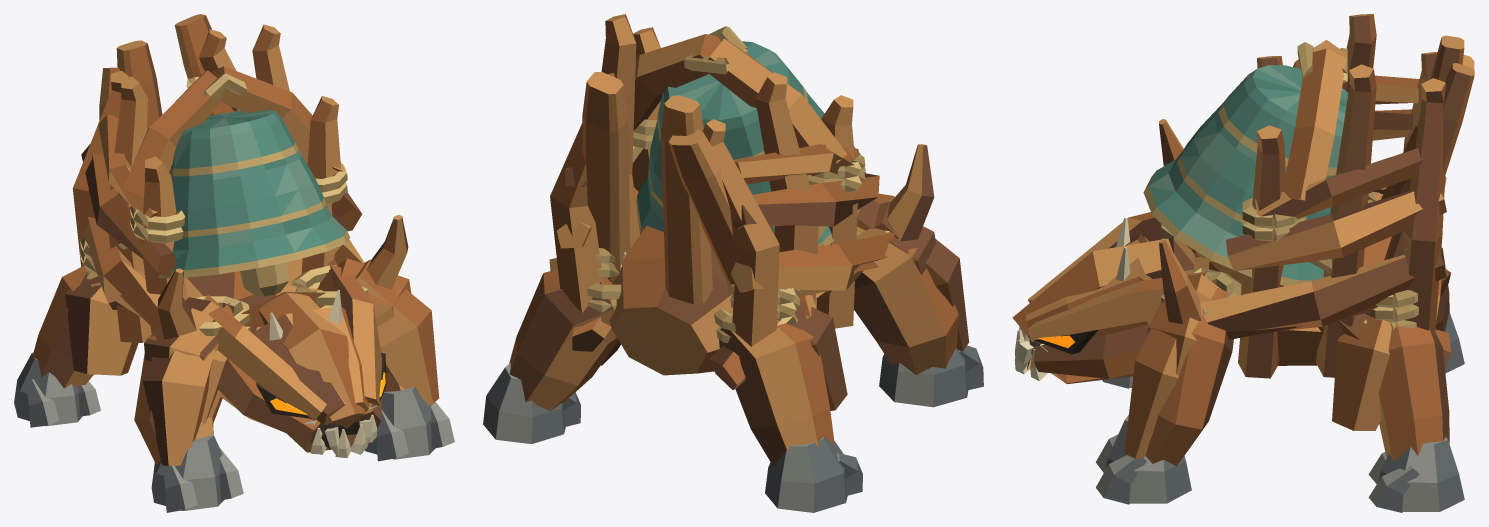
Rendered from bellback-complete-pass3.glb.
The picture shows the model from 3 angles, left to right: view 1: azimuth 30°, elevation 25°; view 2: azimuth 150°, elevation 25°; view 3: azimuth 270°, elevation 25°; orthographic projection. The views are drawn at different scales.
Parts seen in each view (by area): view 1: Hollow cast bell, Left fore outer timber shield, Right fore outer timber shield, Pointed central face keel, Left hind shoulder cap, Shaped orbital brow timber, Solid timber cranium, Arch left, Broken ship rib -1 1, Middle broken side strake -1, Lower broken side strake -1, Left hind timber leg (+33 smaller); view 2: Barrel timber hull, Left hind timber leg, Left fore timber leg, Right hind timber leg, Stern diagonal wreck plank 1, Hollow cast bell, Tall stern plank, Broken ship rib -1 2, Lower broken side strake -1, Broken ship rib 1 2, Stern diagonal wreck plank -1, Left hind stone foot (+20 smaller); view 3: Hollow cast bell, Lower broken side strake 1, Right hind timber leg, Middle broken side strake 1, Broken ship rib 1 2, Right fore timber leg, Arch right, Broken ship rib 1 1, Right hind shoulder cap, Broken ship rib 1 0, Right fore outer timber shield, Shaped orbital brow timber.001 (+28 smaller).
Boxes of the visible parts, x1,y1,x2,y2 form: Hollow cast bell: [158, 109, 350, 278]; Left fore outer timber shield: [143, 308, 215, 465]; Right fore outer timber shield: [355, 259, 439, 405]; Pointed central face keel: [258, 292, 364, 428]; Left hind shoulder cap: [65, 271, 138, 375]; Shaped orbital brow timber: [204, 294, 326, 421]; Solid timber cranium: [224, 284, 369, 424]; Arch left: [122, 70, 222, 196]; Broken ship rib -1 1: [108, 76, 151, 342]; Middle broken side strake -1: [81, 144, 176, 277]; Lower broken side strake -1: [83, 217, 160, 329]; Left hind timber leg: [31, 266, 93, 388]; Barrel timber hull: [609, 226, 831, 375]; Left hind timber leg: [719, 319, 834, 466]; Left fore timber leg: [854, 226, 958, 374]; Right hind timber leg: [509, 269, 618, 411]; Stern diagonal wreck plank 1: [582, 72, 630, 283]; Hollow cast bell: [636, 41, 865, 246]; Tall stern plank: [661, 95, 712, 304]; Broken ship rib -1 2: [702, 119, 779, 346]; Lower broken side strake -1: [730, 228, 895, 292]; Broken ship rib 1 2: [550, 73, 615, 312]; Stern diagonal wreck plank -1: [668, 130, 736, 294]; Left hind stone foot: [765, 436, 847, 512]; Hollow cast bell: [1143, 65, 1348, 285]; Lower broken side strake 1: [1200, 254, 1446, 331]; Right hind timber leg: [1378, 321, 1449, 461]; Middle broken side strake 1: [1226, 190, 1446, 271]; Broken ship rib 1 2: [1403, 78, 1446, 333]; Right fore timber leg: [1145, 287, 1233, 466]; Arch right: [1282, 48, 1346, 200]; Broken ship rib 1 1: [1316, 64, 1376, 377]; Right hind shoulder cap: [1332, 315, 1391, 430]; Broken ship rib 1 0: [1238, 125, 1285, 378]; Right fore outer timber shield: [1124, 290, 1211, 458]; Shaped orbital brow timber.001: [1027, 271, 1206, 341].
Size of the model in its own units: 3.43 by 3.72 by 3.91.
